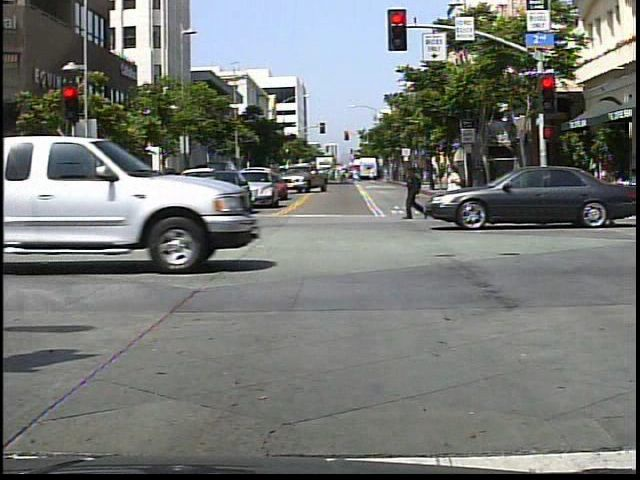person: (442, 159, 476, 223), (401, 161, 435, 225), (153, 166, 186, 225)
